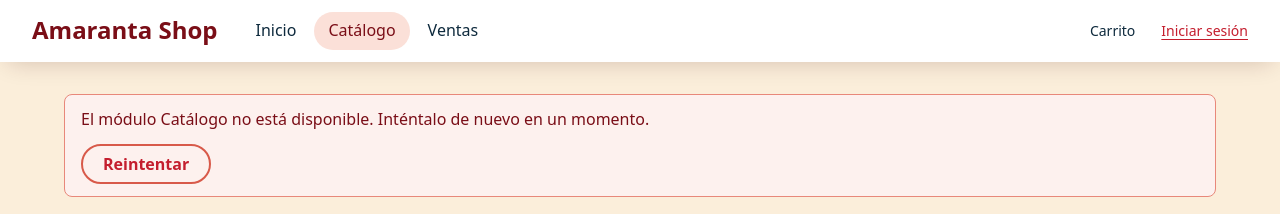
Test: App › keeps working when a portal is down: only that area says so, and the other portal still opens
The image size is (1280, 214).
Expected: the message shows "El módulo Catálogo no está disponible", [64,94,1216,197]
Expected: the navigation bar is shown, [256,12,478,50]
Click the link "Ventas" at (453, 30), box [428,19,478,41]
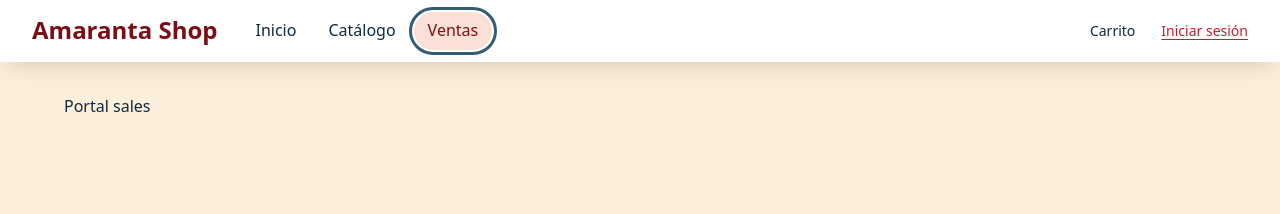
Expected: the text "Portal sales" is shown, [64,95,150,117]
Expected: the message is gone
